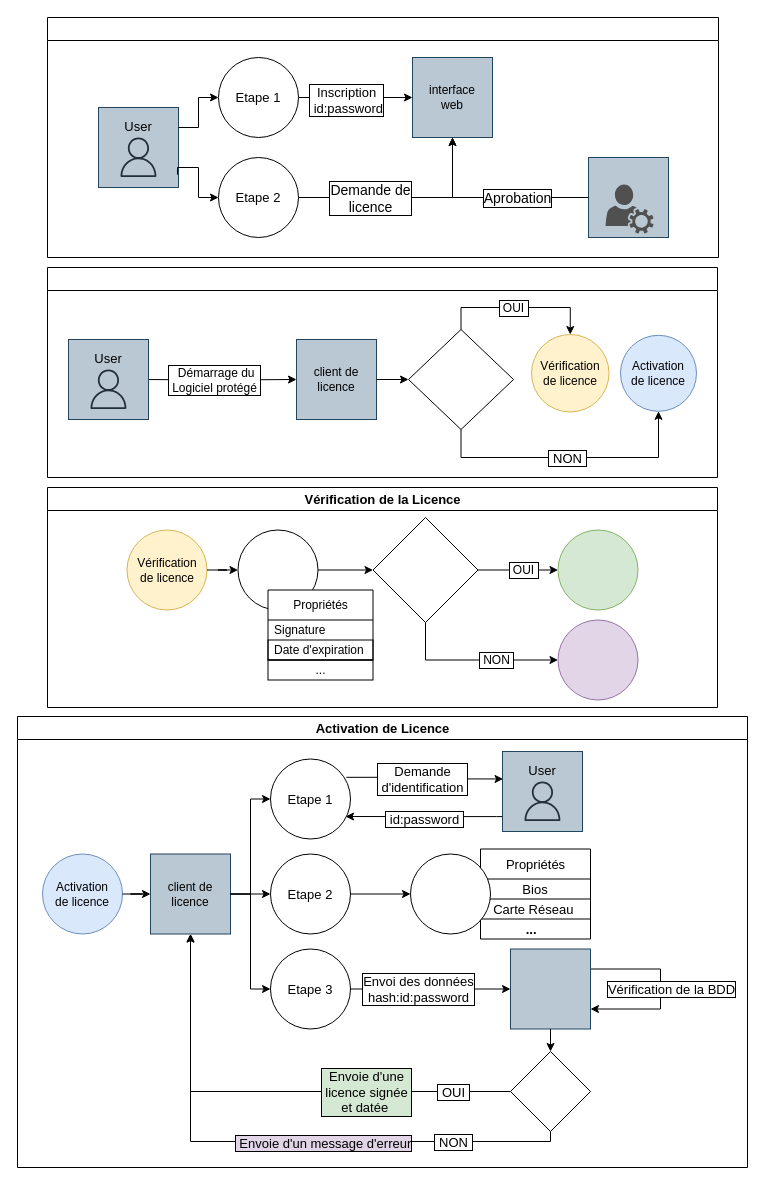
The diagram is 765 pixels wide and 1185 high, and some of its shapes have lost their labels. The box of each missing label's shape, as (x1, y1, x2, y2) in pixels:
Admin: (588, 156, 668, 238)
Checklist: (237, 529, 318, 610)
Données valides ?: (510, 1050, 590, 1132)
Erreur: (557, 619, 638, 700)
Génération d'un hash: (410, 853, 490, 934)
Lancement du logiciel: (557, 529, 638, 610)
Lancement du Logiciel protégé: (46, 266, 718, 478)
Licence présente sur la machine ?: (408, 328, 514, 430)
Licence valide ?: (372, 516, 478, 622)
Préliminaire: (46, 16, 718, 258)
serveur de licence: (510, 948, 590, 1029)
